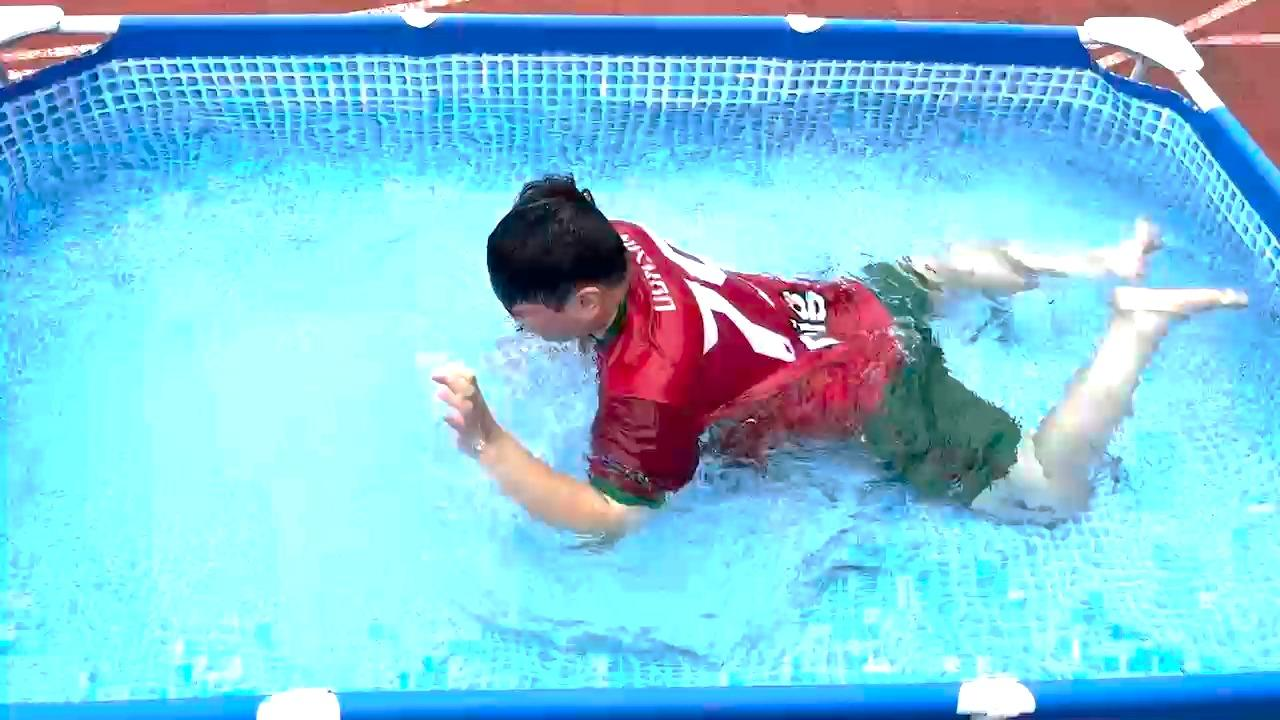Drowning: (329, 87, 1268, 576)
